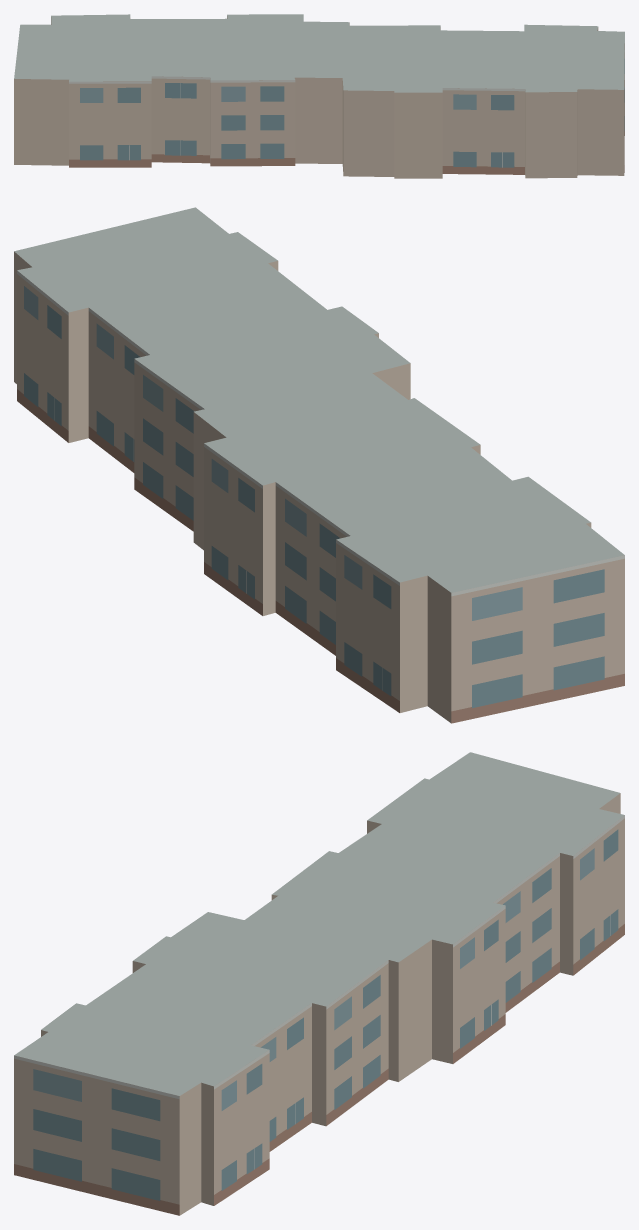
File: survey-upis-32836191.glb
The picture shows the model from 3 angles, top to bottom: view 1: azimuth 30°, elevation 25°; view 2: azimuth 150°, elevation 25°; view 3: azimuth 270°, elevation 25°; orthographic projection. The views are drawn at different scales.
Visible parts, largest first — view 1: survey-upis-32836191.tmp; view 2: survey-upis-32836191.tmp; view 3: survey-upis-32836191.tmp.
Boxes of the visible parts, x1,y1,x2,y2 form: survey-upis-32836191.tmp: [14, 14, 624, 178]; survey-upis-32836191.tmp: [14, 207, 624, 723]; survey-upis-32836191.tmp: [14, 752, 624, 1215].
Size of the model in its own units: 56.41 by 9.15 by 42.33.
